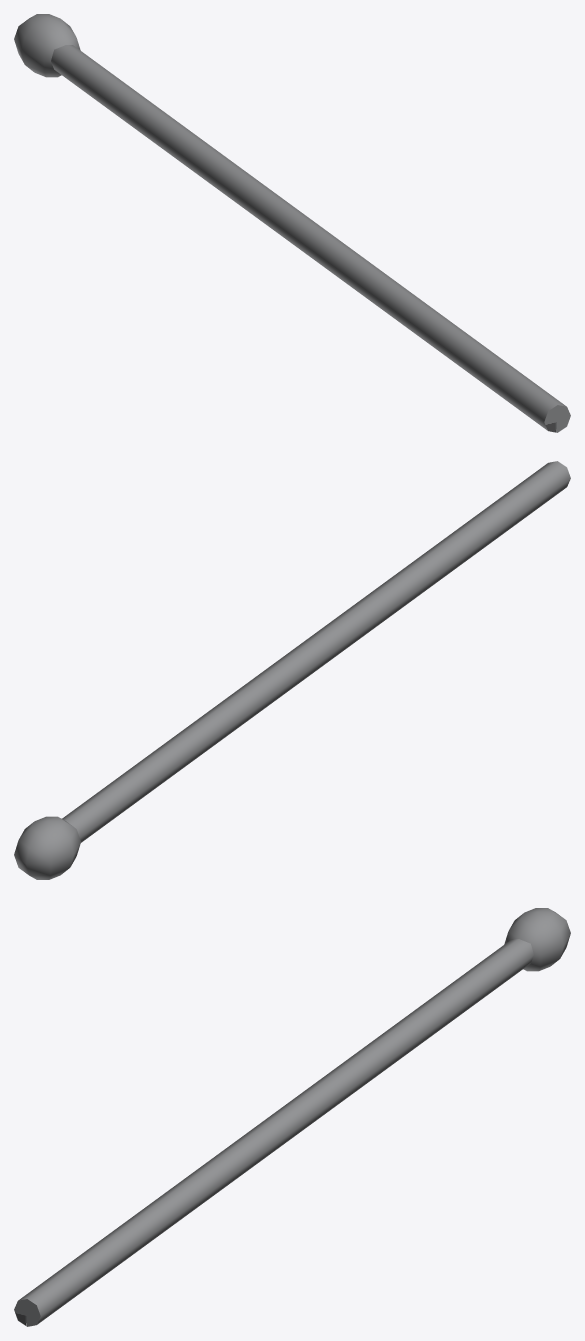
3 renders of one model, top to bottom at view 1: azimuth 30°, elevation 25°; view 2: azimuth 150°, elevation 25°; view 3: azimuth 330°, elevation 25°, orthographic.
Size of the model in its own units: 0.11 by 0.11 by 1.93.
